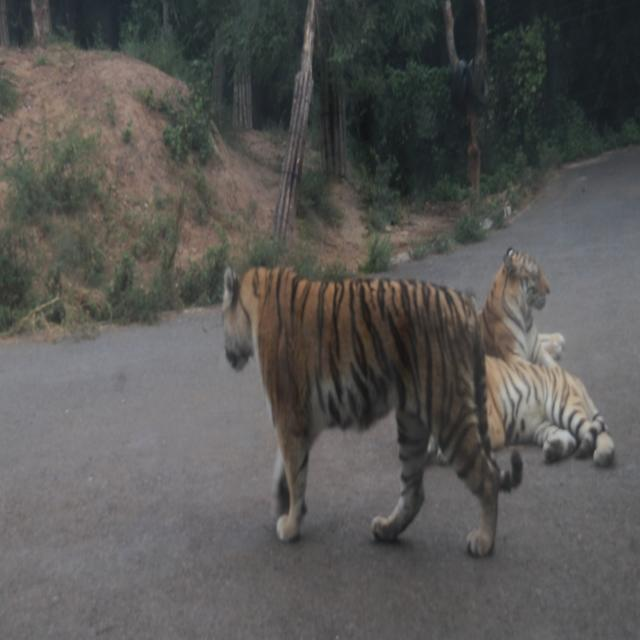Tiger: (205, 234, 528, 572), (418, 332, 622, 469), (474, 241, 574, 366)
